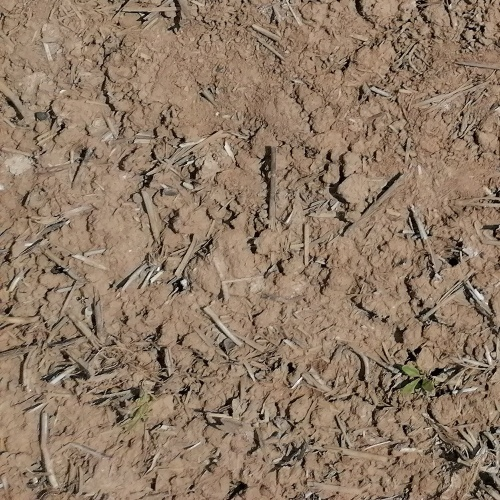beet: (401, 365, 438, 397)
